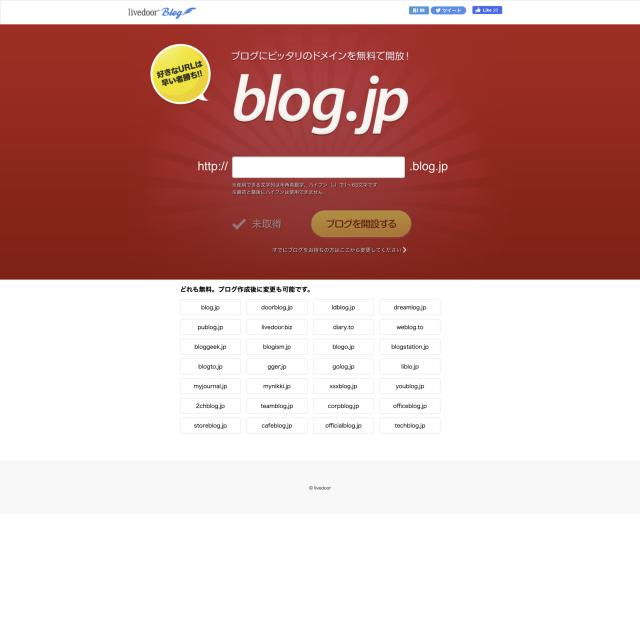input: (232, 156, 404, 177)
logo: (124, 2, 198, 20)
navigation: (179, 300, 441, 434)
